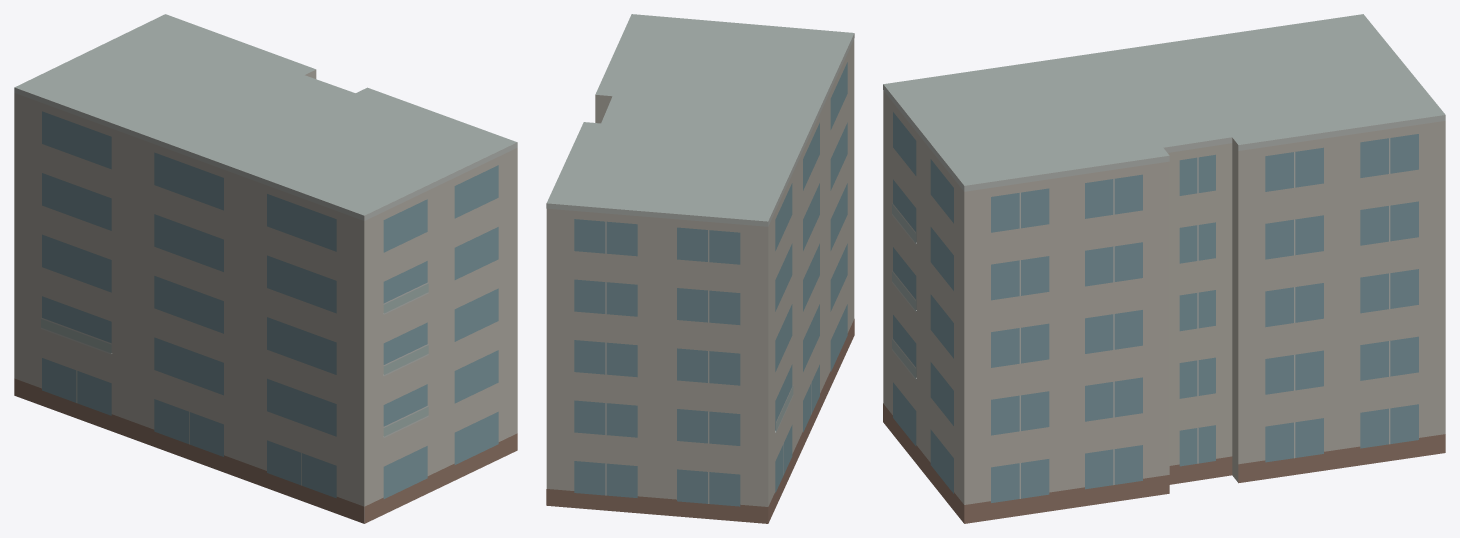
The model's file is survey-upis-32621319.glb.
3 views of the same model, side by side, from view 1: azimuth 30°, elevation 25°; view 2: azimuth 150°, elevation 25°; view 3: azimuth 270°, elevation 25° (orthographic). The views are drawn at different scales.
Visible parts, largest first — view 1: survey-upis-32621319.tmp; view 2: survey-upis-32621319.tmp; view 3: survey-upis-32621319.tmp.
Boxes of the visible parts, x1,y1,x2,y2 form: survey-upis-32621319.tmp: [14, 14, 517, 523]; survey-upis-32621319.tmp: [546, 14, 854, 523]; survey-upis-32621319.tmp: [883, 14, 1445, 523].
Bounding box in the file's own units: 15.28 × 14 × 21.13.
